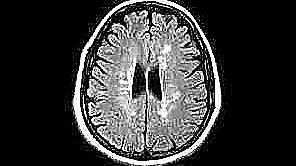Normal_Brain: (2, 1, 296, 166)
